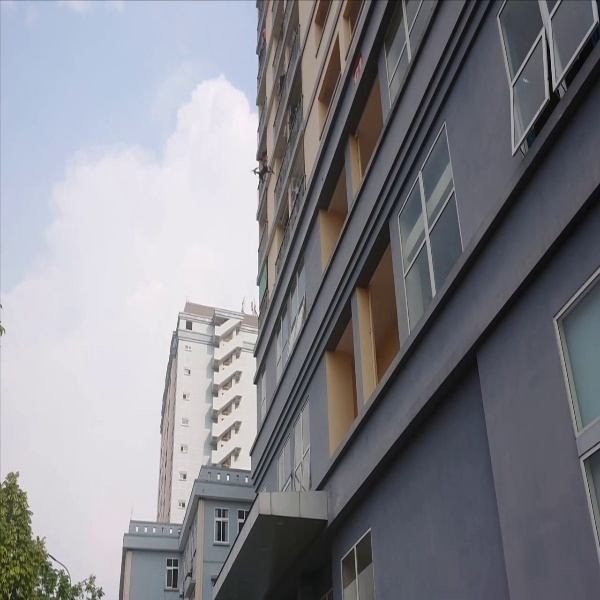drone: (247, 159, 278, 185)
